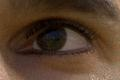eye: (36, 27, 67, 50)
